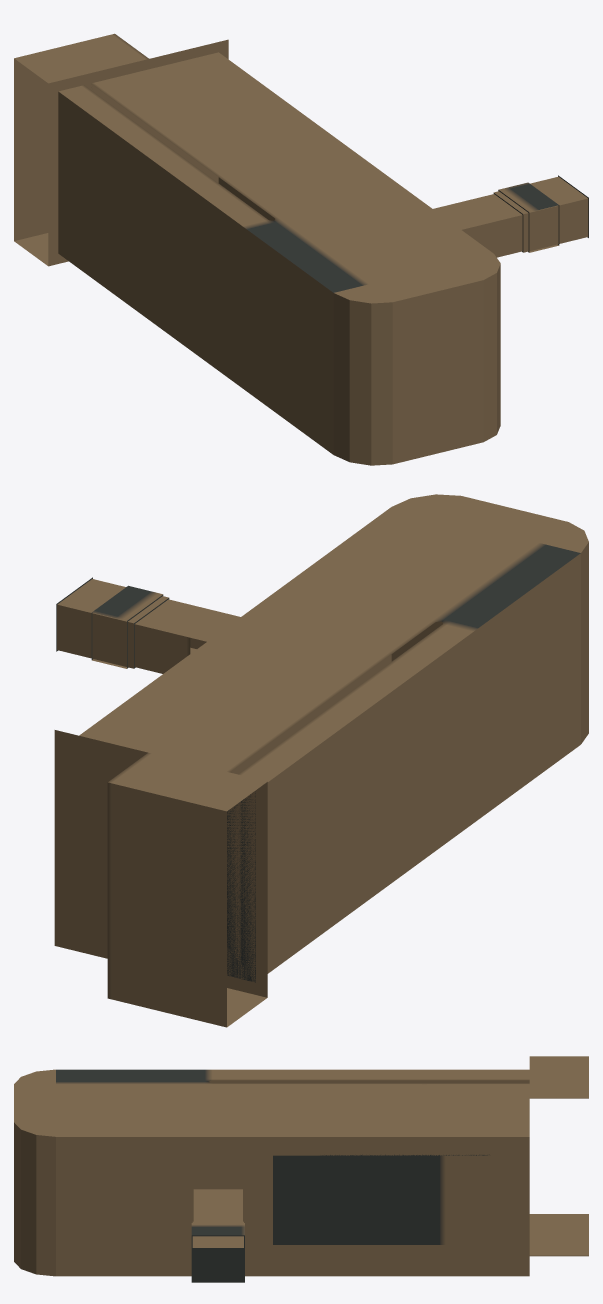
Rendered from section-8.obj.
3 renders of one model, top to bottom at view 1: azimuth 30°, elevation 25°; view 2: azimuth 150°, elevation 25°; view 3: azimuth 270°, elevation 25°, orthographic. The views are drawn at different scales.
Bounding box in the file's own units: 0.693 × 0.352 × 1.16.
